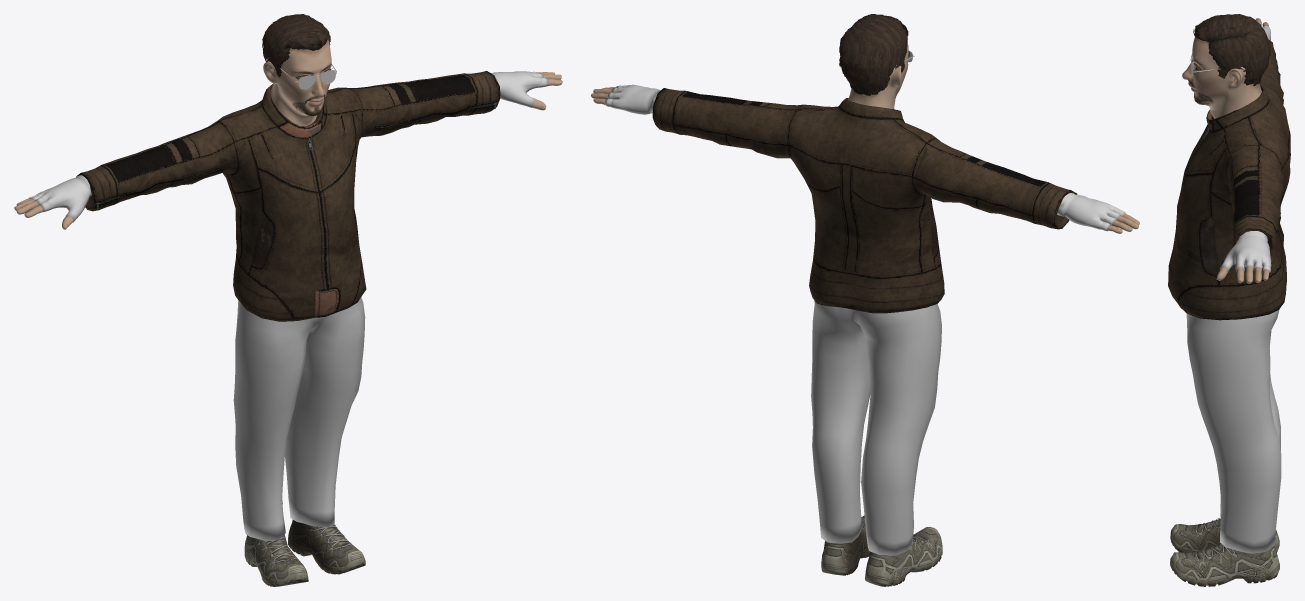
Rendered from player.obj.
3 renders of one model, left to right at view 1: azimuth 30°, elevation 25°; view 2: azimuth 150°, elevation 25°; view 3: azimuth 270°, elevation 25°, orthographic.
Visible parts, largest first — view 1: Tops, Bottoms, Shoes, Body, Gloves, Hair; view 2: Tops, Bottoms, Hair, Shoes, Gloves, Body; view 3: Tops, Bottoms, Shoes, Body, Hair, Gloves.
Part boxes in pixels (x1=…): Tops: x1=76, y1=71, x2=500, y2=321; Bottoms: x1=233, y1=297, x2=365, y2=540; Shoes: x1=244, y1=500, x2=365, y2=586; Body: x1=14, y1=39, x2=562, y2=229; Gloves: x1=28, y1=71, x2=548, y2=222; Hair: x1=262, y1=14, x2=330, y2=76; Tops: x1=652, y1=88, x2=1077, y2=313; Bottoms: x1=811, y1=300, x2=941, y2=555; Hair: x1=839, y1=14, x2=908, y2=95; Shoes: x1=821, y1=515, x2=942, y2=586; Gloves: x1=605, y1=84, x2=1125, y2=231; Body: x1=591, y1=40, x2=1139, y2=233; Tops: x1=1168, y1=39, x2=1290, y2=320; Bottoms: x1=1186, y1=309, x2=1281, y2=553; Shoes: x1=1170, y1=518, x2=1279, y2=586; Body: x1=1182, y1=18, x2=1269, y2=283; Hair: x1=1193, y1=14, x2=1270, y2=85; Gloves: x1=1220, y1=21, x2=1271, y2=272.
Bounding box in the file's own units: 185 × 176 × 35.91.
